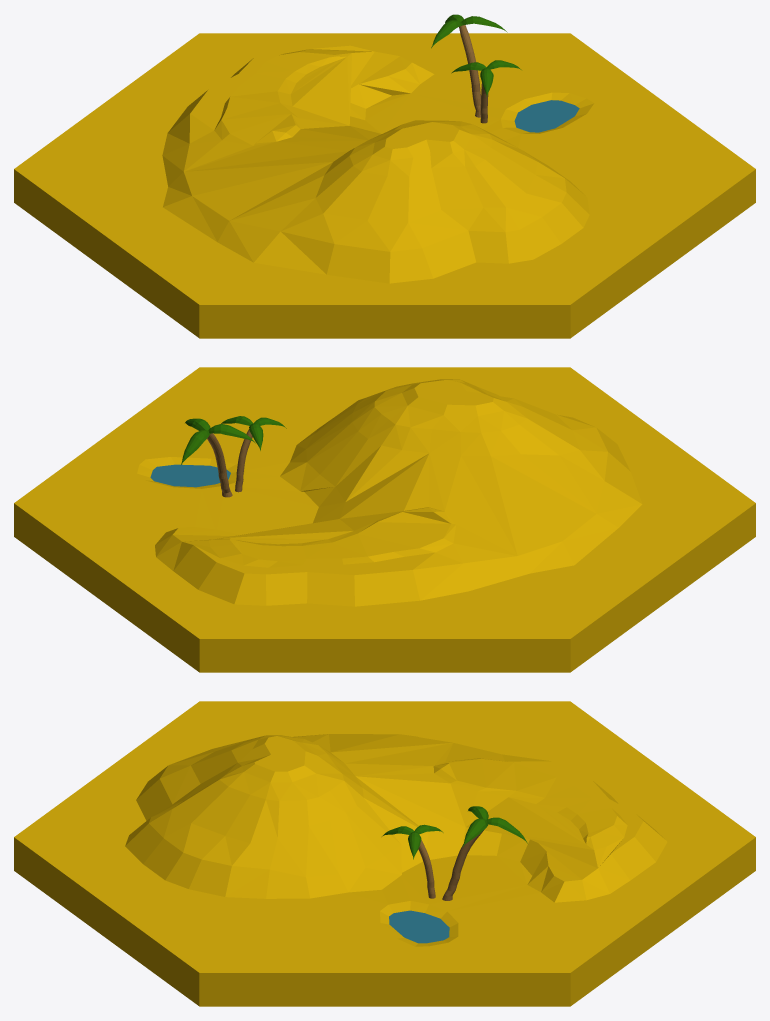
Rendered from desert.dae.
The picture shows the model from 3 angles, top to bottom: view 1: azimuth 30°, elevation 25°; view 2: azimuth 150°, elevation 25°; view 3: azimuth 270°, elevation 25°; orthographic projection.
Parts seen in each view (by area): view 1: Cylinder, Cylinder_001; view 2: Cylinder, Cylinder_001; view 3: Cylinder, Cylinder_001.
Part boxes in pixels (bbox=[...]): Cylinder: bbox=[14, 33, 755, 338]; Cylinder_001: bbox=[459, 25, 480, 117]; Cylinder: bbox=[14, 367, 755, 672]; Cylinder_001: bbox=[207, 433, 232, 497]; Cylinder: bbox=[14, 701, 755, 1006]; Cylinder_001: bbox=[442, 829, 484, 900].
Bounding box in the file's own units: 1.73 × 2 × 0.3533.
